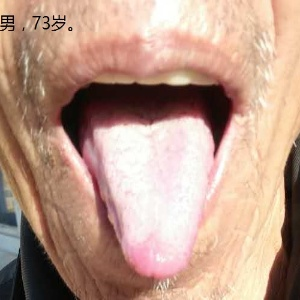st: (80, 108, 218, 279)
